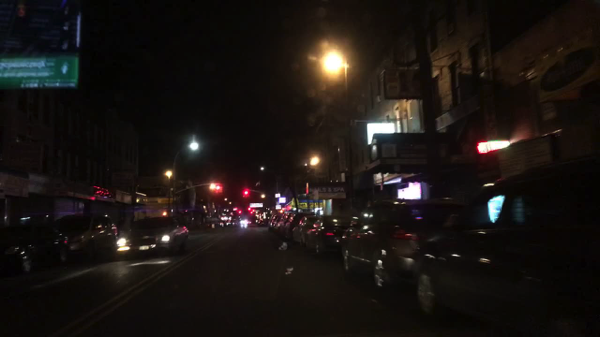car: (411, 153, 599, 337), (332, 198, 469, 295), (0, 224, 69, 275), (57, 212, 117, 267), (116, 218, 188, 257), (304, 213, 358, 257), (291, 214, 319, 249), (283, 211, 315, 241), (272, 212, 289, 236), (271, 213, 283, 235), (267, 214, 279, 232), (267, 212, 274, 229), (206, 221, 220, 229), (215, 219, 226, 229), (223, 219, 231, 229), (241, 219, 249, 226), (228, 220, 237, 226), (257, 220, 266, 226)
traffic light: (162, 210, 169, 217), (237, 208, 242, 215), (245, 188, 249, 196), (217, 184, 221, 191), (247, 206, 251, 213)
traffic sign: (291, 198, 300, 207), (277, 196, 286, 204), (250, 203, 264, 207), (274, 192, 281, 198), (274, 205, 280, 211)
